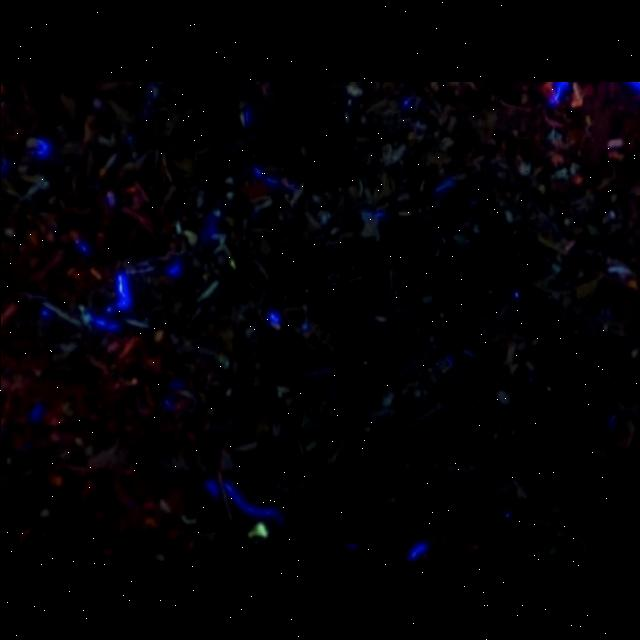microbeads: (250, 520, 266, 538)
